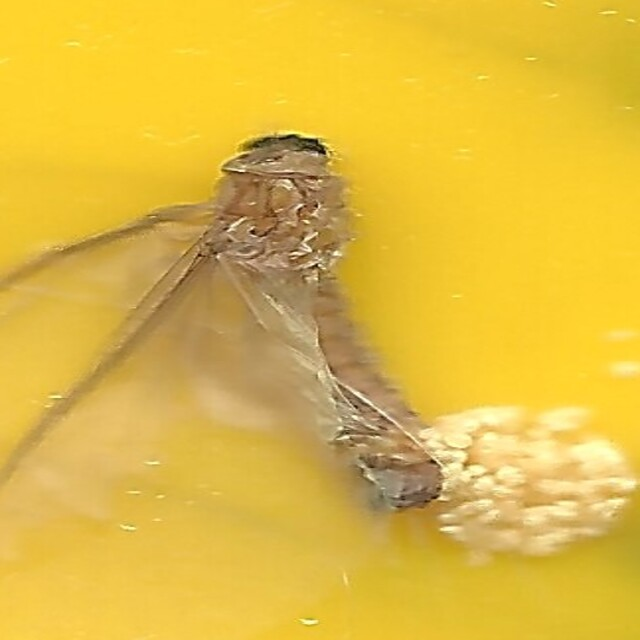Ephemeroptera: (198, 123, 442, 517)
